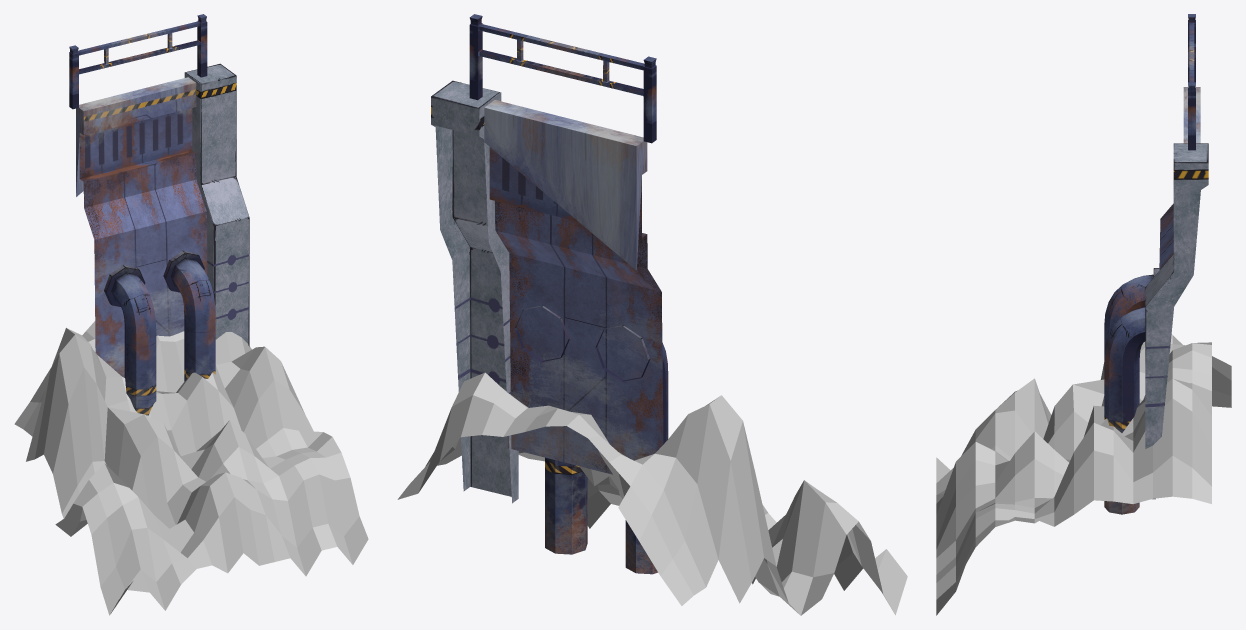
Rendered from FBX_MurComplet.fbx.
3 renders of one model, left to right at view 1: azimuth 30°, elevation 25°; view 2: azimuth 150°, elevation 25°; view 3: azimuth 270°, elevation 25°, orthographic. The views are drawn at different scales.
Parts seen in each view (by area): view 1: Plane.001, Cube.042, Cube.131, BézierCurve.001, Cube.134; view 2: Cube.042, Plane.001, Cube.131, BézierCurve.001, Cube.134; view 3: Plane.001, Cube.131, BézierCurve.001, Cube.042, Cube.134.
Boxes of the visible parts, <box> form: Plane.001: <box>14,321,368,615</box>; Cube.042: <box>76,77,207,377</box>; Cube.131: <box>184,63,249,346</box>; BézierCurve.001: <box>104,250,215,415</box>; Cube.134: <box>69,14,207,109</box>; Cube.042: <box>481,100,663,474</box>; Plane.001: <box>397,372,907,615</box>; Cube.131: <box>431,80,518,503</box>; BézierCurve.001: <box>515,305,668,574</box>; Cube.134: <box>469,14,656,143</box>; Plane.001: <box>936,334,1231,615</box>; Cube.131: <box>1145,143,1208,499</box>; BézierCurve.001: <box>1104,268,1159,514</box>; Cube.042: <box>1159,87,1200,269</box>; Cube.134: <box>1188,14,1195,150</box>.
Bounding box in the file's own units: 1237 × 2229 × 1160.
